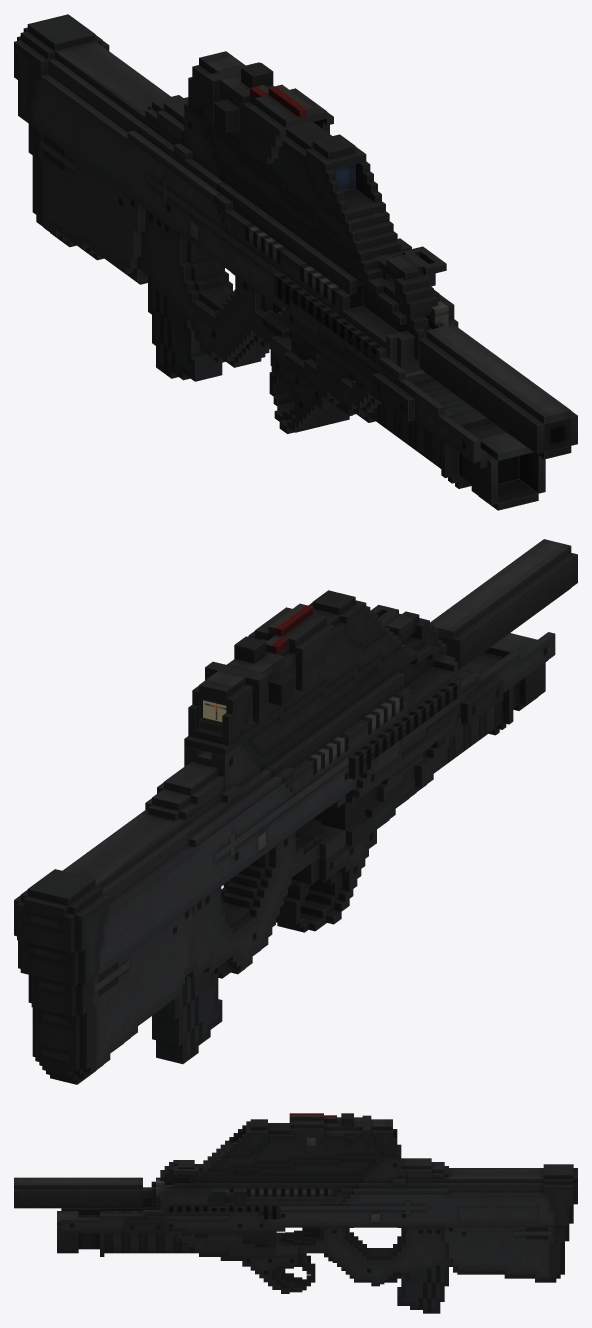
3 views of the same model, one above another, from view 1: azimuth 30°, elevation 25°; view 2: azimuth 150°, elevation 25°; view 3: azimuth 270°, elevation 25° (orthographic). The views are drawn at different scales.
Parts seen in each view (by area): view 1: FN_F2000, FN_F2000_GP, FN_F2000_SCOPE2, SILENCER_6X6, SCOPE_ACOG, FN_F2000_GRIP, FN_F2000_CLIP, FN_F2000_PLANK; view 2: FN_F2000, FN_F2000_GP, FN_F2000_SCOPE2, SCOPE_ACOG, SILENCER_6X6, FN_F2000_GRIP, FN_F2000_CLIP, FN_F2000_PLANK; view 3: FN_F2000, FN_F2000_GP, FN_F2000_SCOPE2, SILENCER_6X6, SCOPE_ACOG, FN_F2000_CLIP, FN_F2000_GRIP, FN_F2000_PLANK, FN_F2000_BOLT.
Part boxes in pixels (x1,y1,x2,y2): FN_F2000: (14,14,458,373); FN_F2000_GP: (269,300,545,510); FN_F2000_SCOPE2: (184,58,402,280); SILENCER_6X6: (419,324,577,459); SCOPE_ACOG: (199,51,333,163); FN_F2000_GRIP: (275,317,431,414); FN_F2000_CLIP: (144,273,222,381); FN_F2000_PLANK: (273,272,423,382); FN_F2000: (14,604,458,1084); FN_F2000_GP: (276,632,555,932); FN_F2000_SCOPE2: (184,590,409,767); SCOPE_ACOG: (199,603,333,732); SILENCER_6X6: (430,539,577,670); FN_F2000_GRIP: (330,693,464,862); FN_F2000_CLIP: (152,970,222,1064); FN_F2000_PLANK: (313,679,460,824); FN_F2000: (143,1158,577,1286); FN_F2000_GP: (57,1198,315,1293); FN_F2000_SCOPE2: (199,1119,401,1178); SILENCER_6X6: (14,1177,142,1208); SCOPE_ACOG: (289,1113,392,1153); FN_F2000_CLIP: (397,1265,452,1313); FN_F2000_GRIP: (164,1227,276,1258); FN_F2000_PLANK: (164,1206,280,1219); FN_F2000_BOLT: (207,1188,246,1207).
Size of the model in its own units: 0.1476 by 0.492 by 1.29.
Materials: 6 (6 with a texture image).
